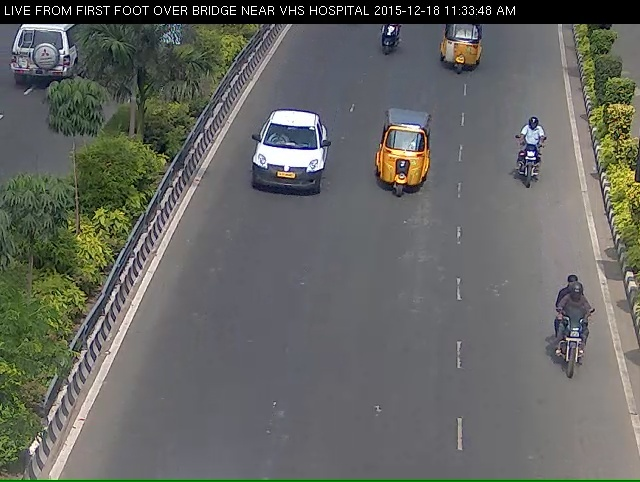Auto: (364, 107, 438, 235), (439, 18, 501, 87)
Car: (230, 117, 335, 236)
Person: (546, 276, 607, 403), (510, 122, 552, 206), (374, 23, 409, 69)
